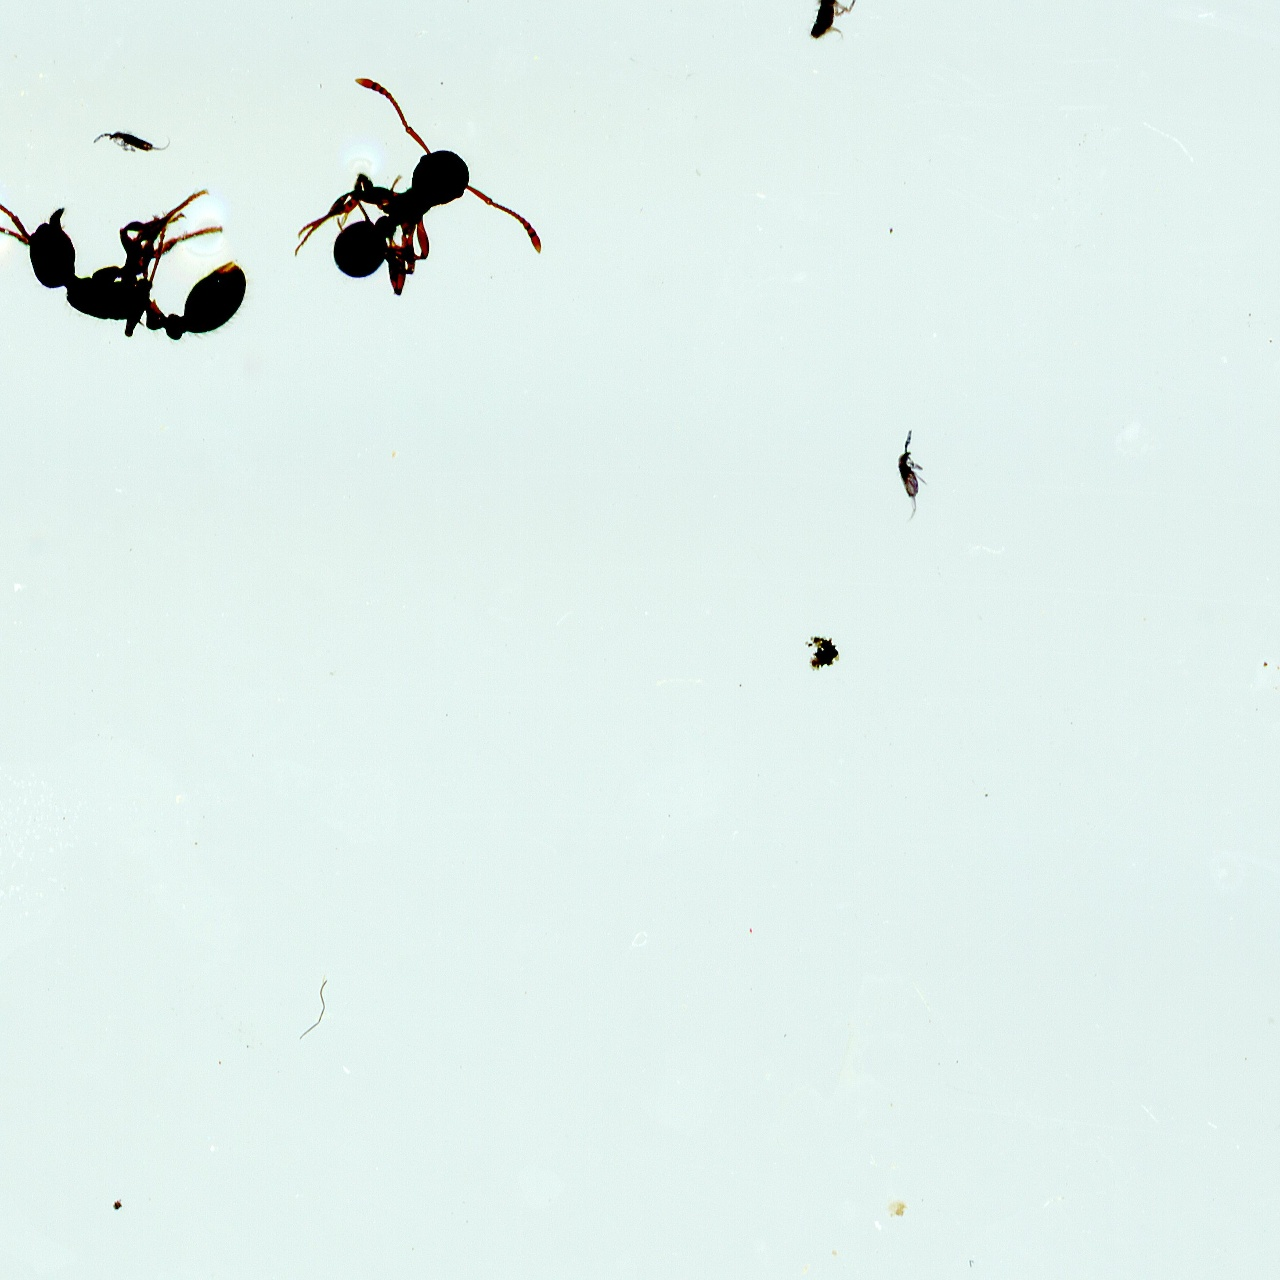arthropod: (247, 56, 588, 379), (0, 148, 257, 349), (893, 423, 933, 525), (84, 128, 179, 157), (809, 0, 862, 43)
